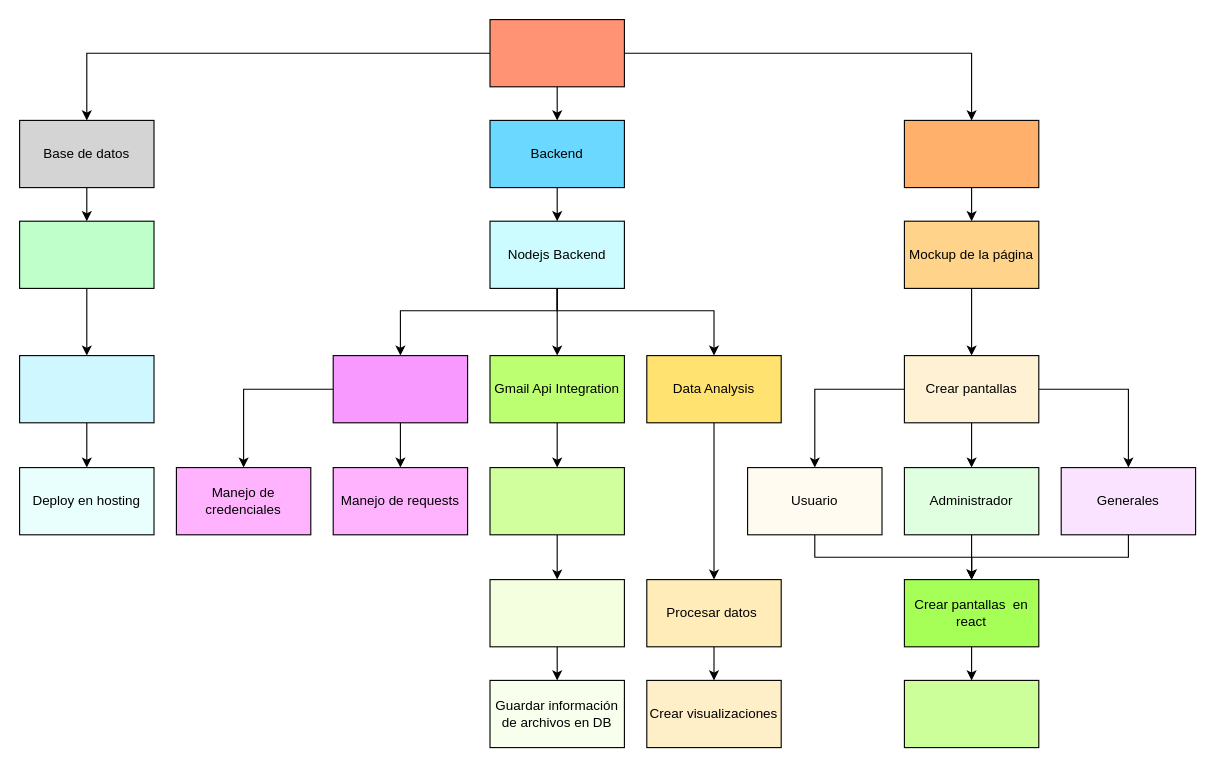
Image size: 1215x767. Some labels were removed from this diagram. The shapes that lost their labels are listed below. From the top down, each one's centre as x and y in pixels, then its label:
At pixel 556 52: "Aplicación".
At pixel 971 153: "Frontend".
At pixel 86 254: "Diseñar tablas".
At pixel 86 388: "Crear base de datos".
At pixel 400 388: "NestJs BoilerPlate".
At pixel 556 500: "Obtener correos".
At pixel 556 612: "Obtener archivos de correos".
At pixel 971 713: "Agregar funcionalidares".
